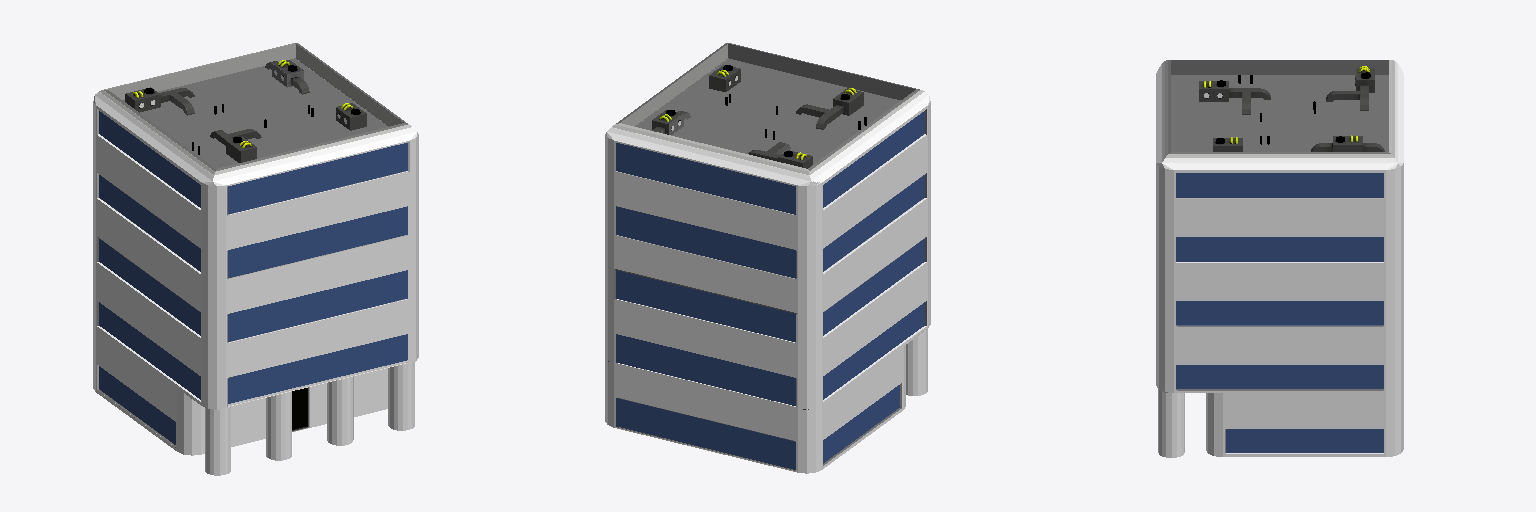
3 views of the same model, side by side, from view 1: azimuth 30°, elevation 25°; view 2: azimuth 150°, elevation 25°; view 3: azimuth 270°, elevation 25° (orthographic).
Visible parts, largest first — view 1: Cube, Cylinder.019_Cylinder.015, Cylinder.005_Cylinder.003, Cube.007, Cylinder, Cube.009; view 2: Cube, Cylinder.019_Cylinder.015, Cube.007, Cylinder.005_Cylinder.003, Cylinder, Cube.009; view 3: Cube, Cylinder.019_Cylinder.015, Cube.007, Cylinder.005_Cylinder.003, Cylinder.
Boxes of the visible parts, x1,y1,x2,y2 form: Cube: [93, 43, 418, 455]; Cylinder.019_Cylinder.015: [205, 362, 414, 475]; Cylinder.005_Cylinder.003: [125, 87, 194, 115]; Cube.007: [210, 129, 261, 162]; Cylinder: [265, 60, 309, 94]; Cube.009: [336, 103, 366, 130]; Cube: [605, 43, 930, 473]; Cylinder.019_Cylinder.015: [906, 329, 927, 395]; Cube.007: [796, 88, 863, 129]; Cylinder.005_Cylinder.003: [748, 142, 812, 168]; Cylinder: [652, 110, 690, 134]; Cube.009: [709, 65, 740, 91]; Cube: [1156, 60, 1403, 456]; Cylinder.019_Cylinder.015: [1158, 390, 1184, 457]; Cube.007: [1199, 80, 1270, 114]; Cylinder.005_Cylinder.003: [1326, 66, 1374, 110]; Cylinder: [1311, 135, 1384, 151].
Size of the model in its own units: 9.86 by 13.37 by 9.86.
Materials: 2 (1 with a texture image).